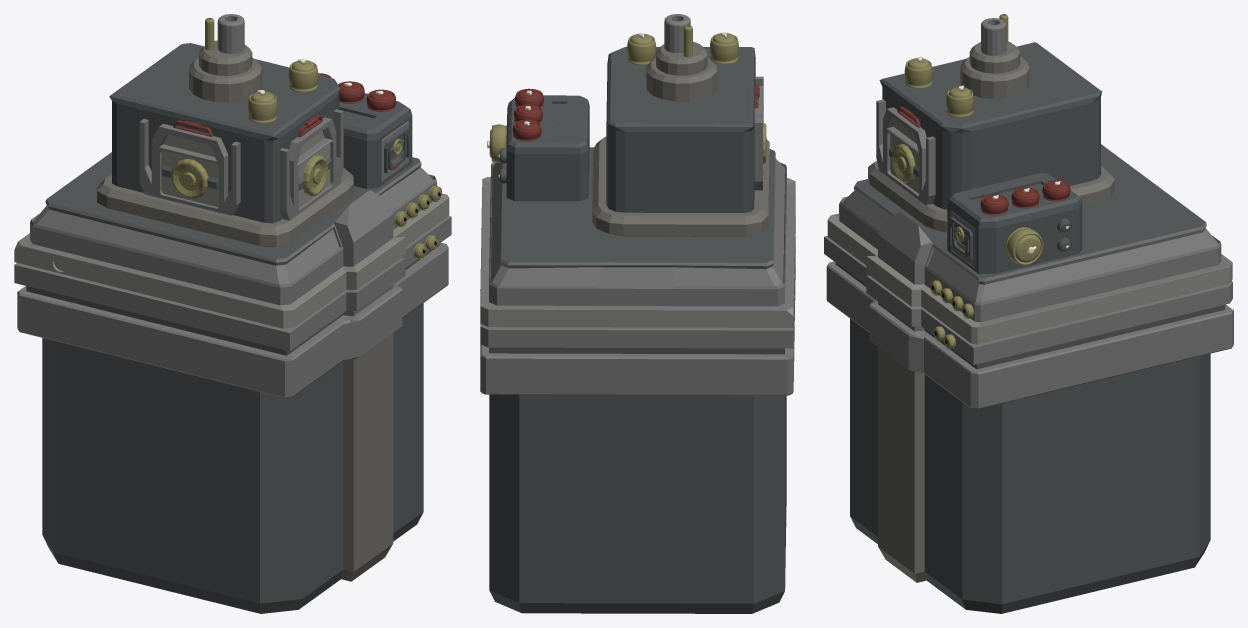
File: nbox2.fbx
The picture shows the model from 3 angles, left to right: view 1: azimuth 30°, elevation 25°; view 2: azimuth 150°, elevation 25°; view 3: azimuth 270°, elevation 25°; orthographic projection. The views are drawn at different scales.
Visible parts, largest first — view 1: 角色倚靠的烟囱; view 2: 角色倚靠的烟囱; view 3: 角色倚靠的烟囱.
Boxes of the visible parts, box(x1,y1,x2,y2) form: 角色倚靠的烟囱: box(14, 14, 451, 613); 角色倚靠的烟囱: box(480, 14, 795, 613); 角色倚靠的烟囱: box(824, 14, 1233, 613).
Bounding box in the file's own units: 95.89 × 130 × 95.24.
